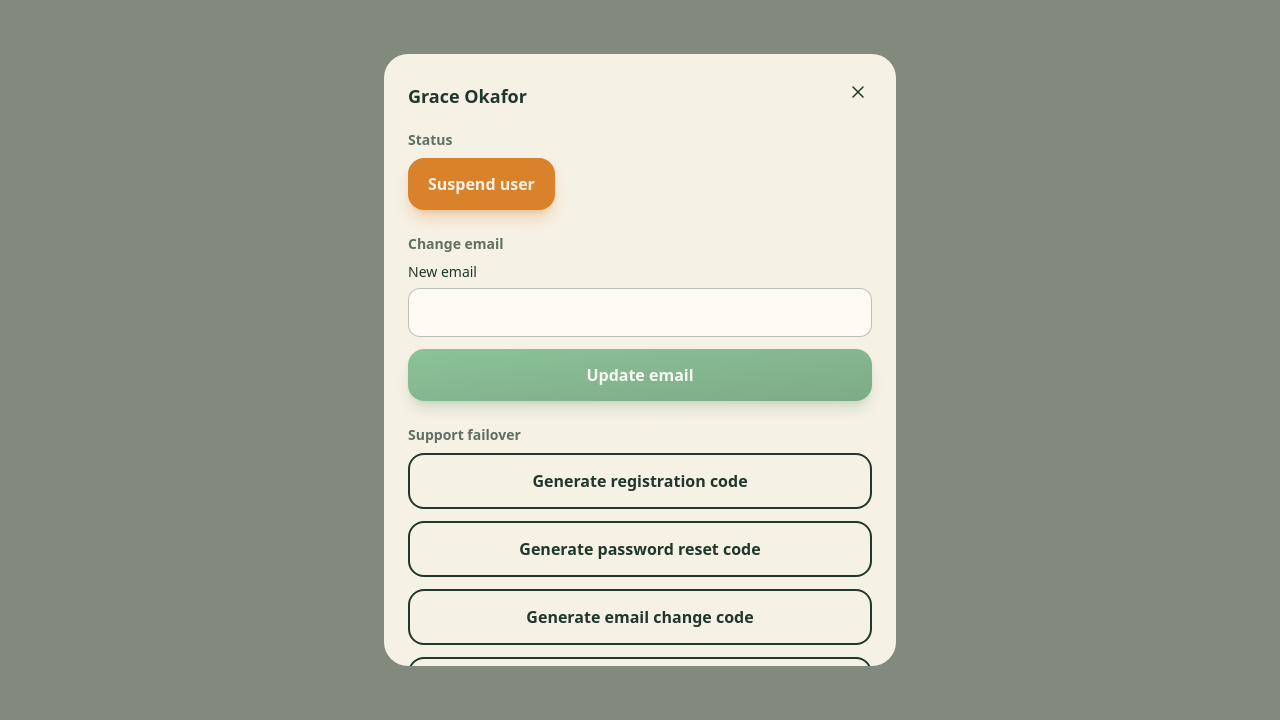
Scenario: UserManageSheet › shows an error message when suspending fails
What coordinates should you click on to do the following:
click the button "Suspend user"
I would click on:
 (481, 184)
Its box is top-left (408, 158), bottom-right (555, 210).
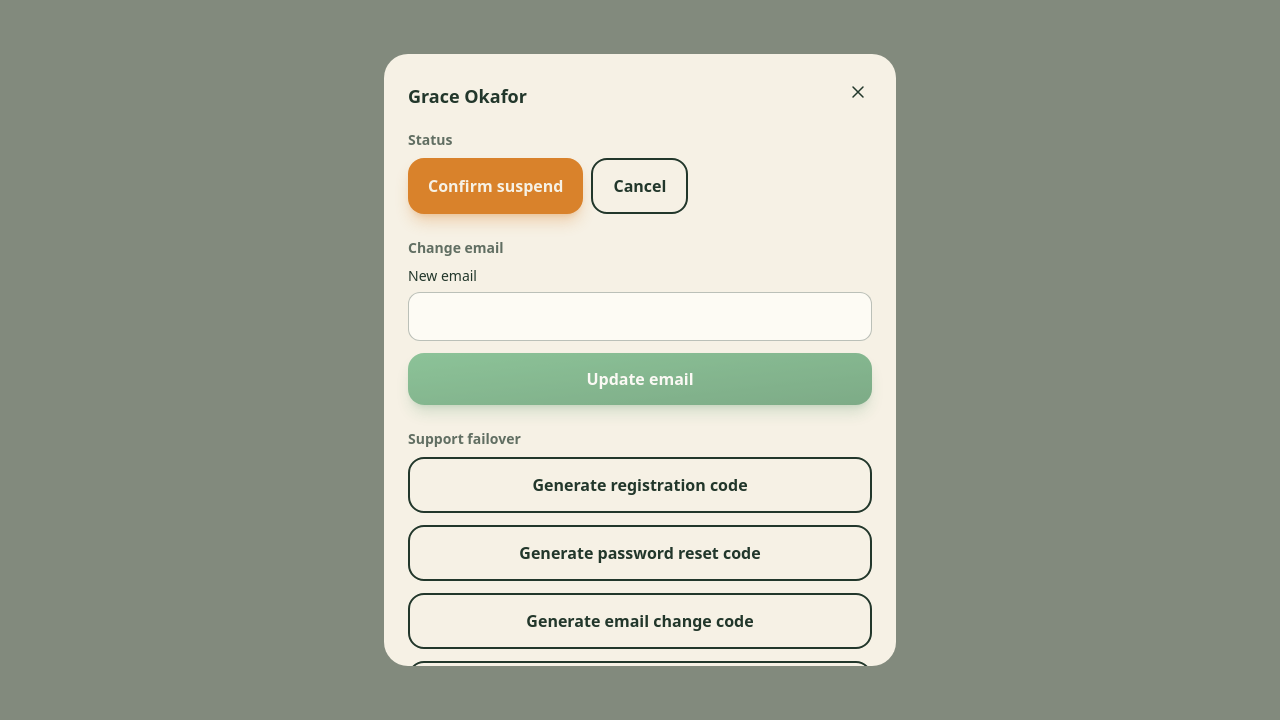
What coordinates should you click on to do the following:
click the button "Confirm suspend"
I would click on:
 (496, 186)
Its box is top-left (408, 158), bottom-right (584, 214).
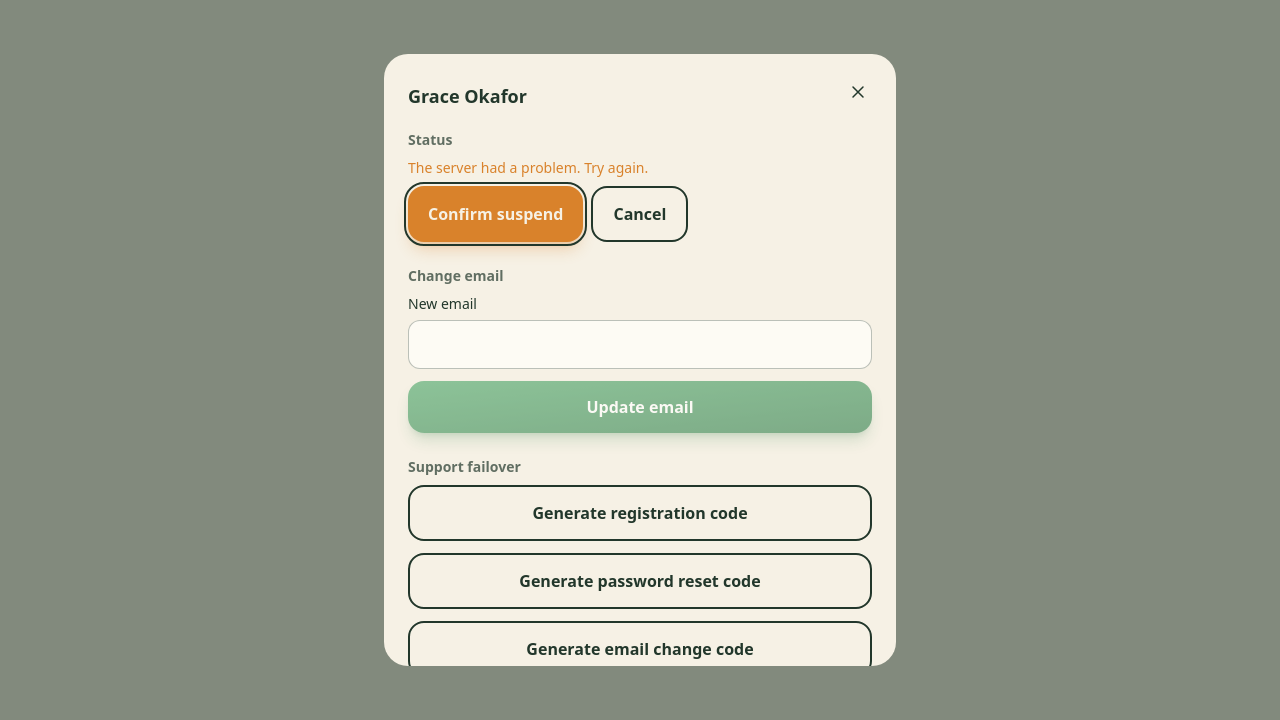
Check: the message reads "The server had a problem. Try again.", box top-left (408, 158), bottom-right (648, 177)
